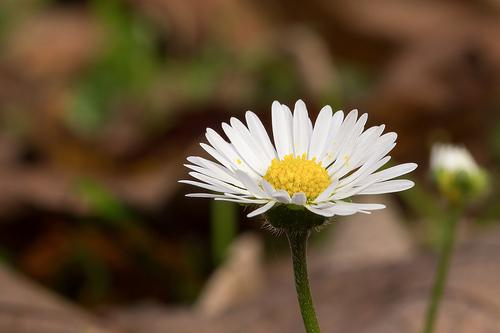daisy: (183, 92, 418, 239)
